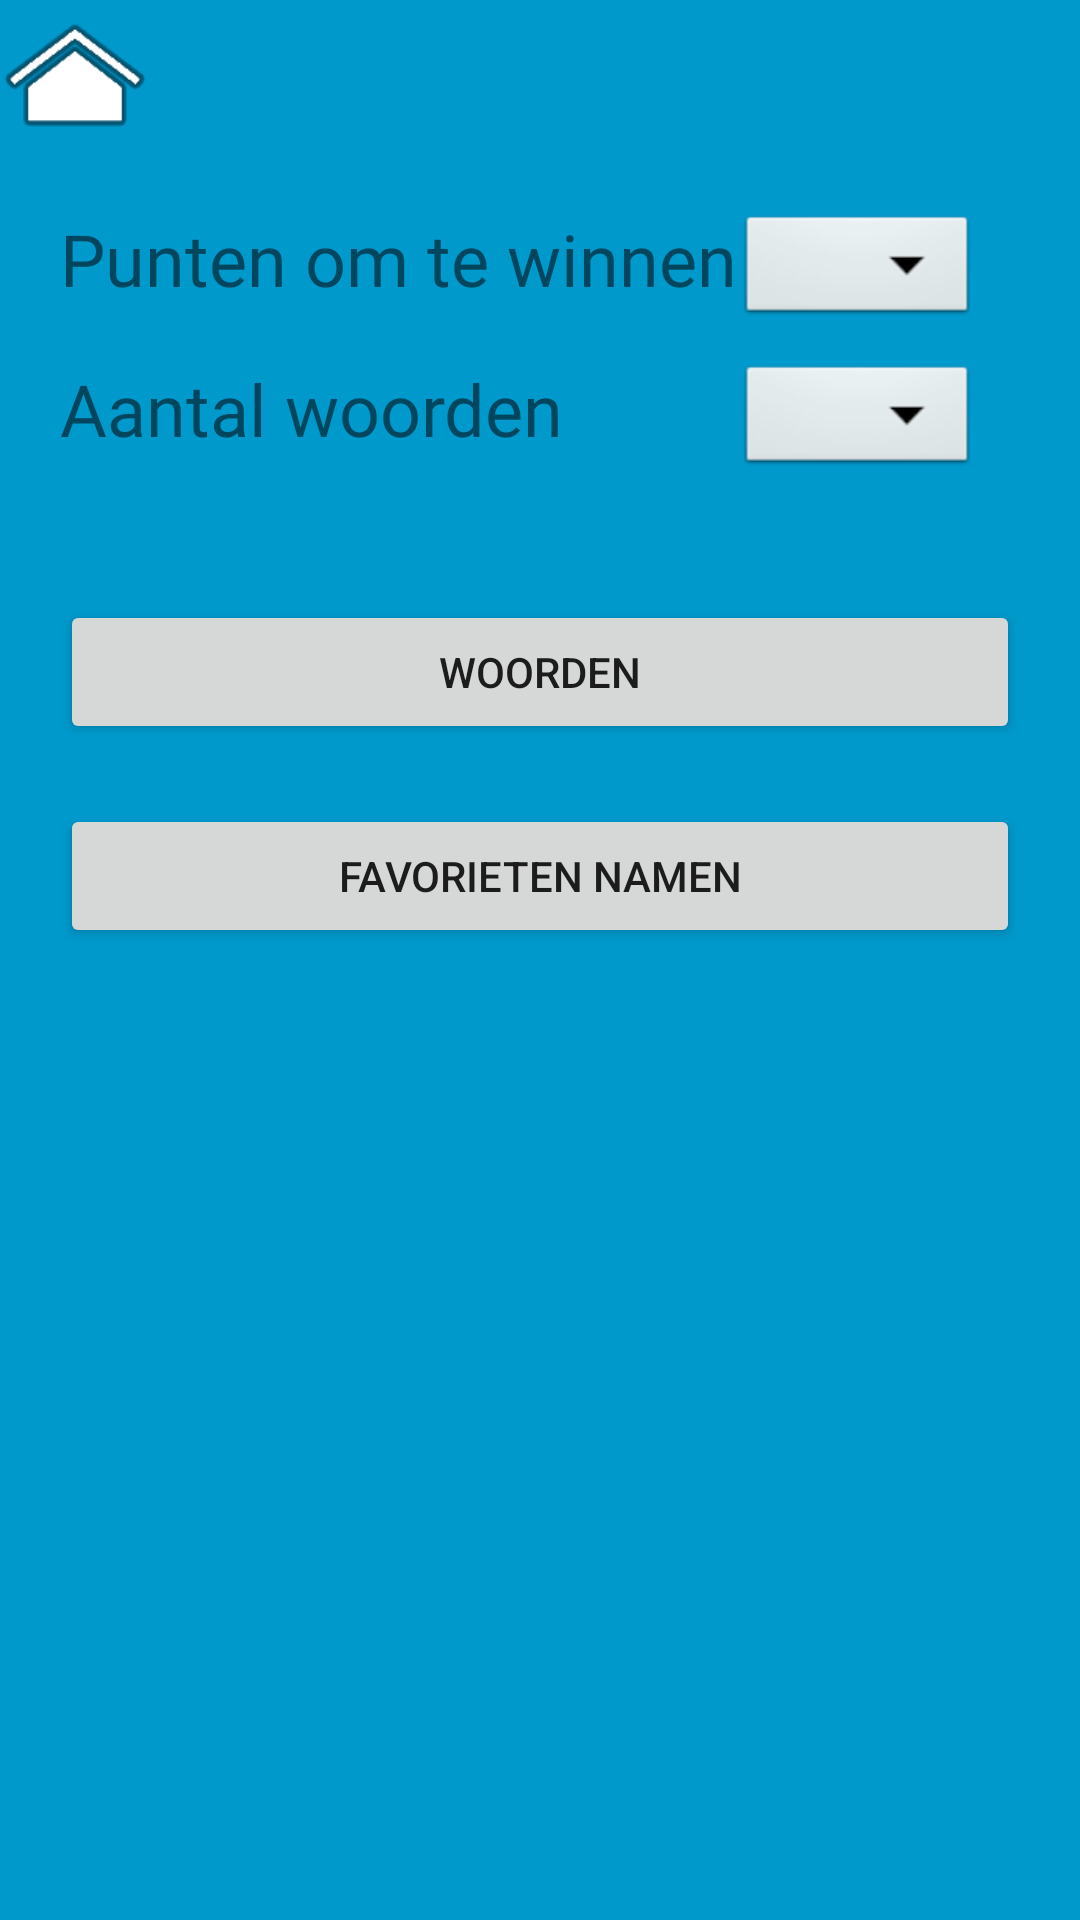

Screen size 1080×1920. Icon name, then its center in pixels as point (x, y):
home: point (75, 75)
